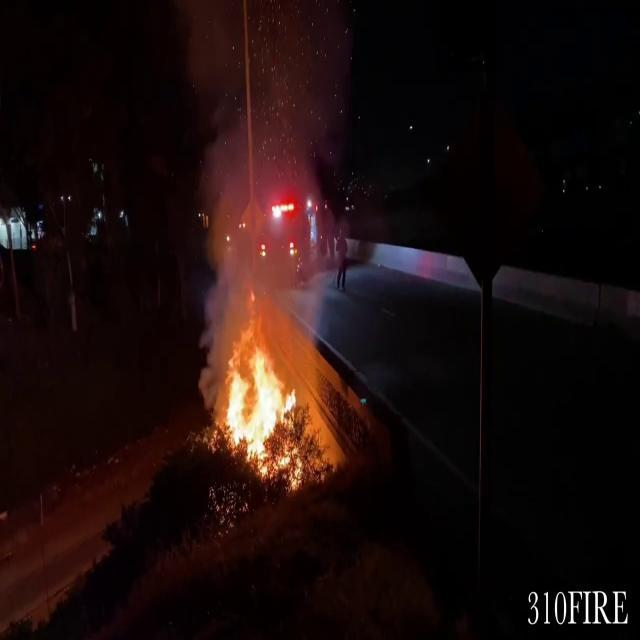Fire: (217, 334, 299, 474)
Smoke: (184, 0, 330, 332)
